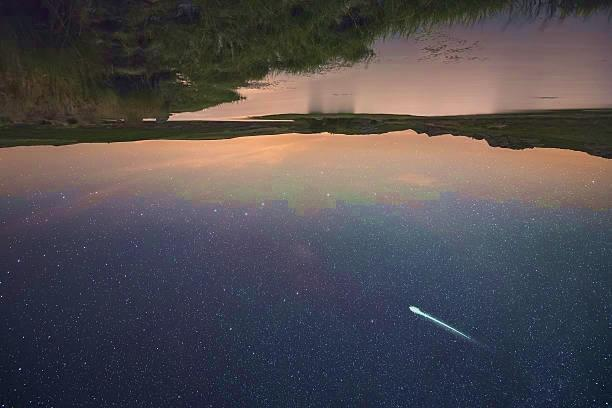meteorite: (398, 302, 481, 344)
